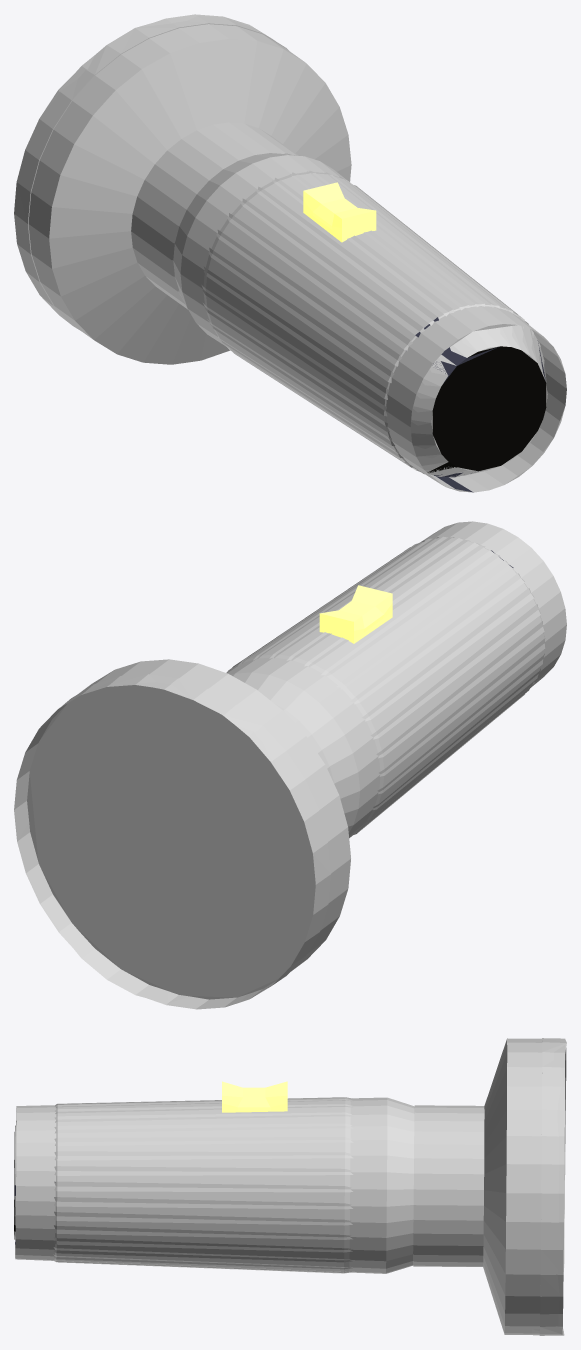
The model's file is flashlight 1.fbx.
3 views of the same model, one above another, from view 1: azimuth 30°, elevation 25°; view 2: azimuth 150°, elevation 25°; view 3: azimuth 270°, elevation 25° (orthographic). The views are drawn at different scales.
Visible parts, largest first — view 1: Cylinder, Cube; view 2: Cylinder, Cube; view 3: Cylinder, Cube.
Boxes of the visible parts, box(x1,y1,x2,y2) form: Cylinder: box(14, 14, 566, 492); Cube: box(303, 182, 376, 242); Cylinder: box(14, 521, 566, 1009); Cube: box(319, 585, 392, 643); Cylinder: box(14, 1038, 566, 1335); Cube: box(222, 1081, 287, 1112).
Size of the model in its own units: 334 by 334 by 620.
